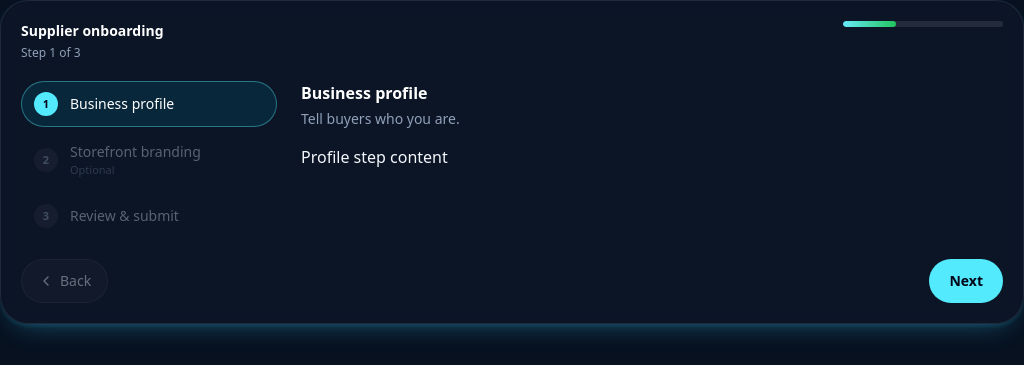
Test: SupplierOnboardingWizard › navigates back to the previous step
The image size is (1024, 365).
Click the button "Next": (966, 281) [930,259,1003,303]
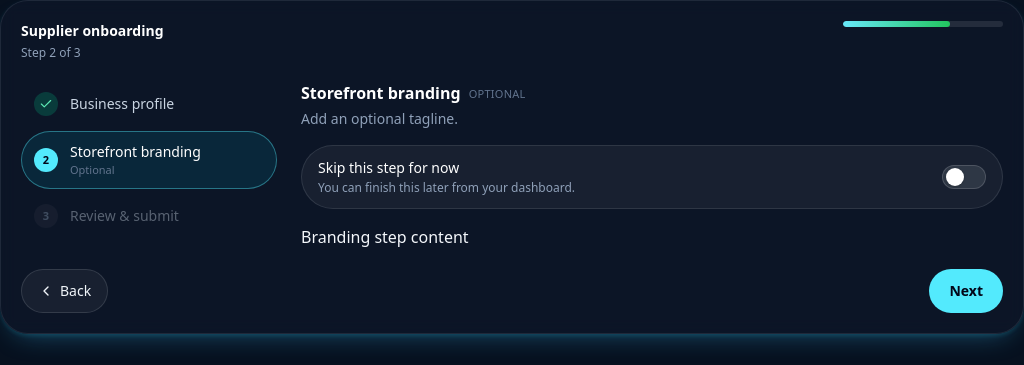
Expected: the text "Step 2 of 3" is shown, [21,44,81,61]
Click the button "Back": (65, 291) [21,269,108,313]
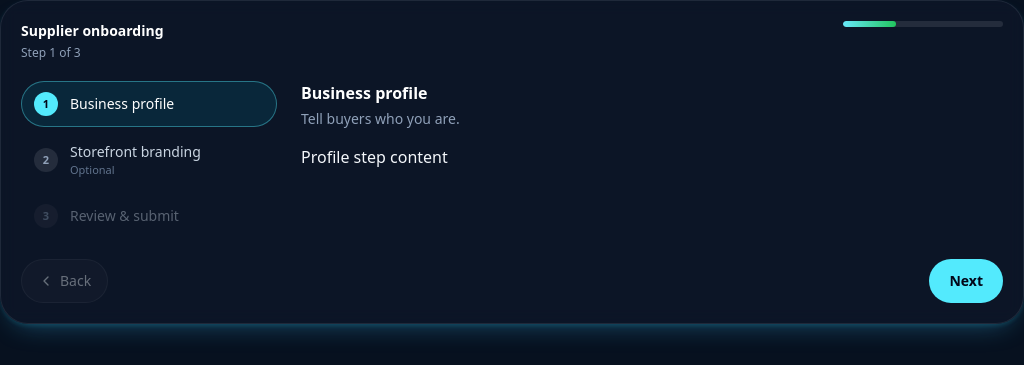
Expected: the text "Step 1 of 3" is shown, [21,44,81,61]
Expected: the text "Profile step content" is shown, [301,146,448,168]
